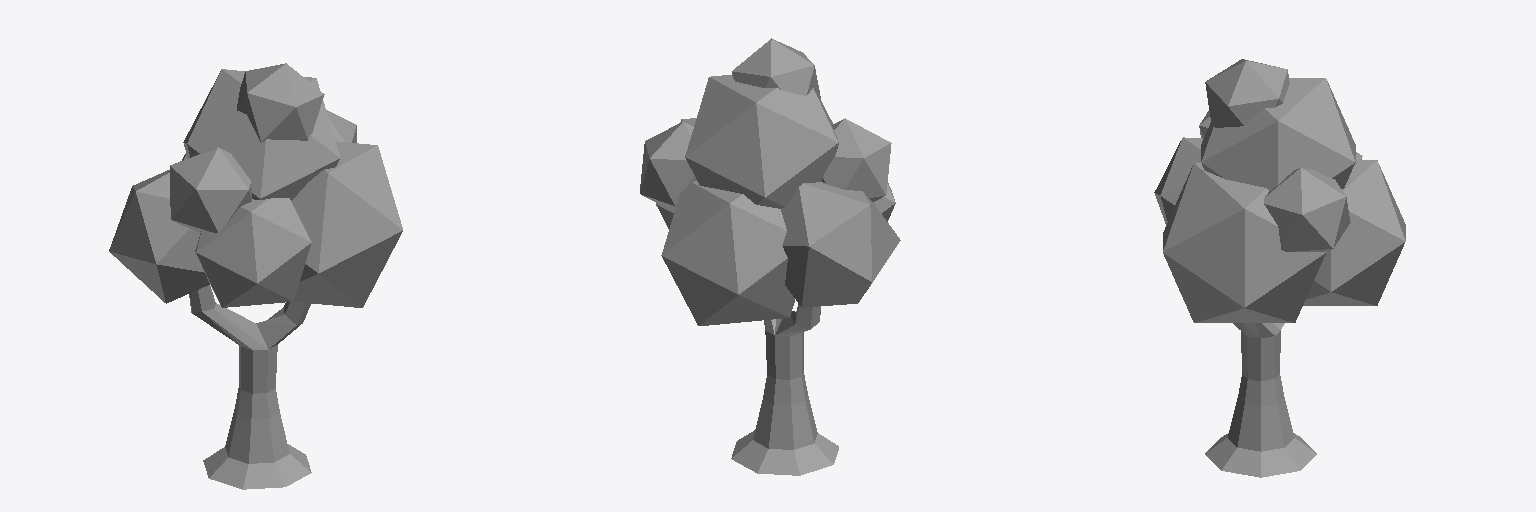
File: tree2.obj
3 renders of one model, left to right at view 1: azimuth 30°, elevation 25°; view 2: azimuth 150°, elevation 25°; view 3: azimuth 270°, elevation 25°, orthographic.
Visible parts, largest first — view 1: Icosphere.003; view 2: Icosphere.003; view 3: Icosphere.003.
Boxes of the visible parts, x1=… form: Icosphere.003: x1=109, y1=63, x2=402, y2=489; Icosphere.003: x1=640, y1=38, x2=900, y2=475; Icosphere.003: x1=1154, y1=59, x2=1405, y2=477.
Size of the model in its own units: 9.99 by 15.32 by 8.65.